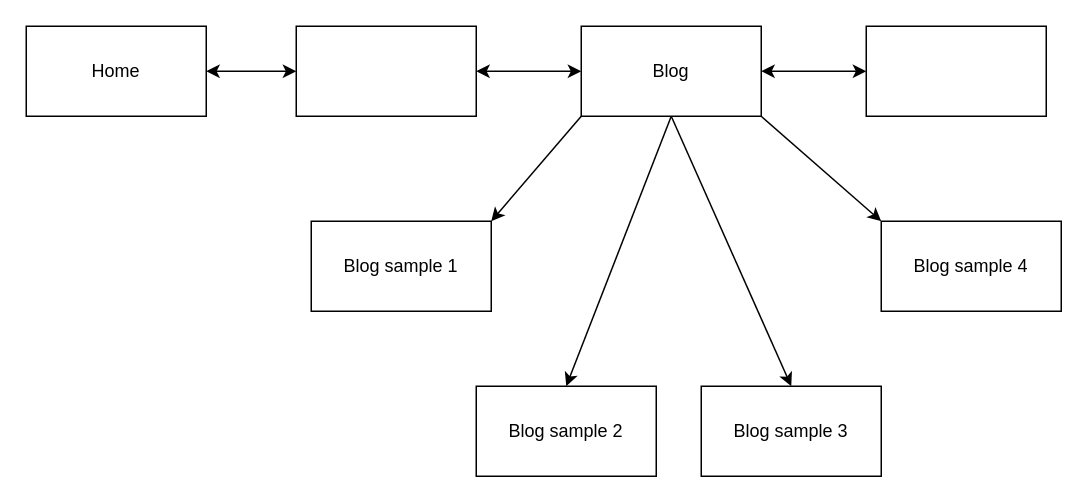
Some shapes in this 1088 by 503 pixel diagram are drawn without their labels. The centre of each missing label's shape, as x and y in pixels:
"About" belongs at pixel 385 70.
"Contact" belongs at pixel 955 70.
